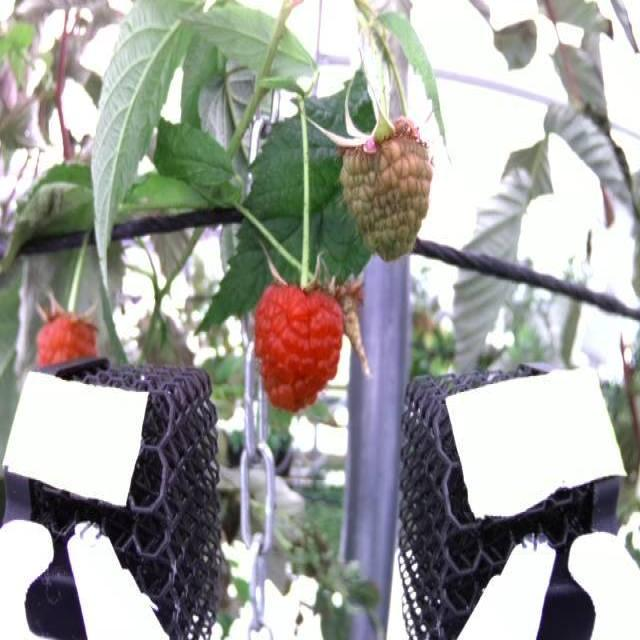Riped berries: (248, 275, 348, 413), (36, 294, 102, 374)
